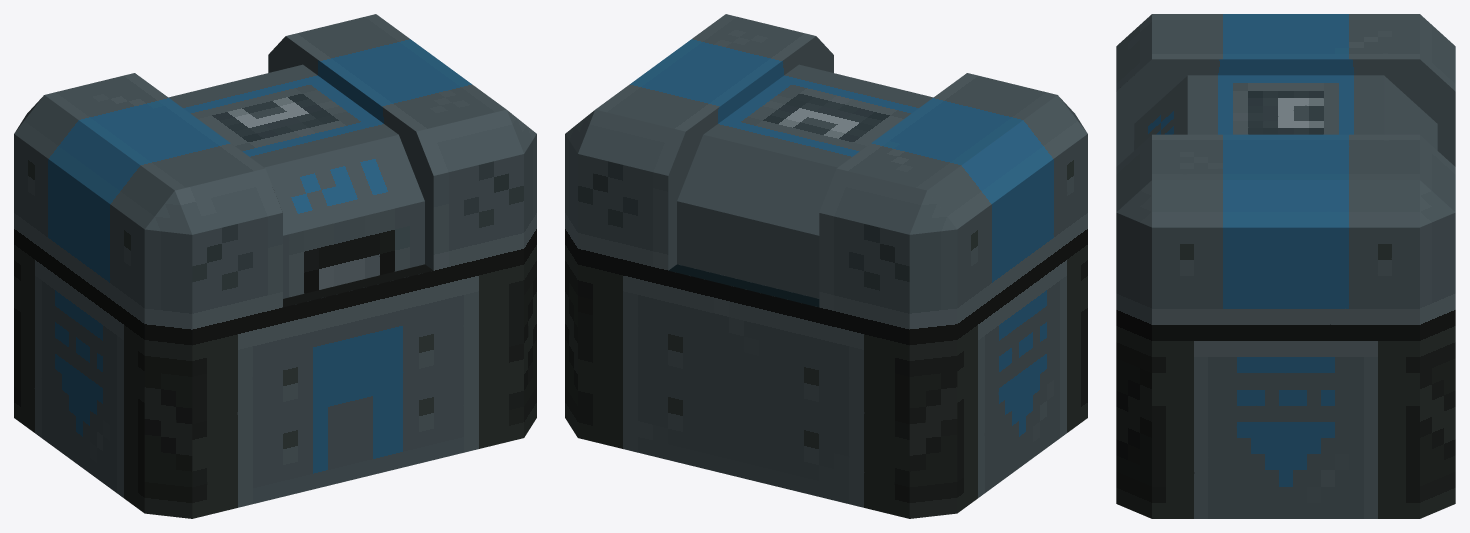
The model's file is tritanium_crate_blue.obj.
3 renders of one model, left to right at view 1: azimuth 30°, elevation 25°; view 2: azimuth 150°, elevation 25°; view 3: azimuth 270°, elevation 25°, orthographic. The views are drawn at different scales.
Parts seen in each view (by area): view 1: base; view 2: base; view 3: base.
Part boxes in pixels (x1,y1,x2,y2): base: [14, 14, 536, 518]; base: [565, 14, 1087, 518]; base: [1116, 14, 1455, 518].
Bounding box in the file's own units: 0.9958 × 0.766 × 0.7278.
